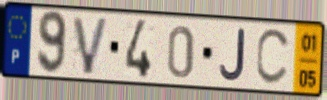0: (166, 23, 199, 79)
4: (124, 17, 154, 80)
9: (35, 9, 68, 78)
C: (254, 27, 293, 88)
J: (217, 27, 246, 83)
V: (70, 14, 112, 77)
